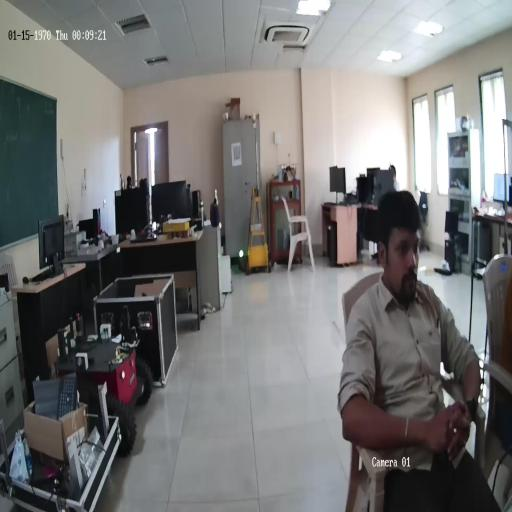laser: (238, 248, 244, 257)
